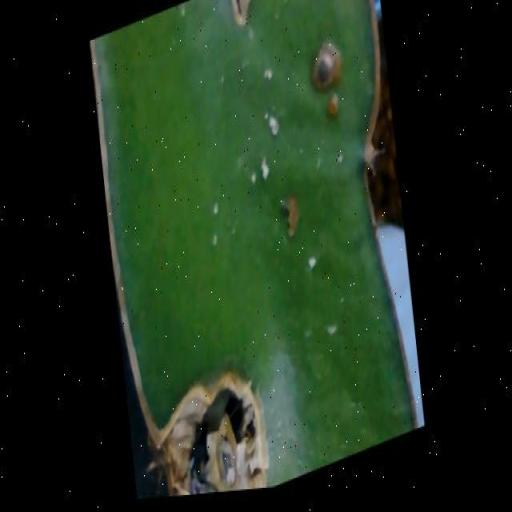stemcanker: (298, 84, 314, 113)
